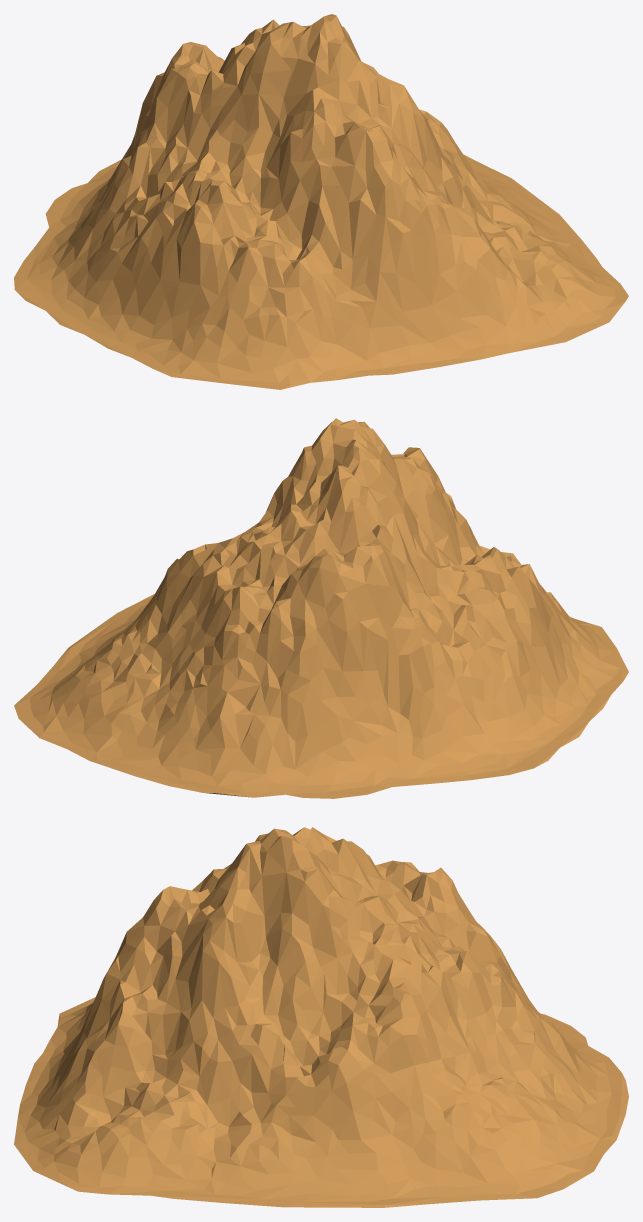
Rendered from result.gltf.
3 views of the same model, one above another, from view 1: azimuth 30°, elevation 25°; view 2: azimuth 150°, elevation 25°; view 3: azimuth 270°, elevation 25° (orthographic). The views are drawn at different scales.
Visible parts, largest first — view 1: Mounting_1; view 2: Mounting_1; view 3: Mounting_1.
Boxes of the visible parts, left/top/right/bottom form: Mounting_1: left=14, top=14, right=628, bottom=389; Mounting_1: left=14, top=418, right=628, bottom=798; Mounting_1: left=14, top=827, right=628, bottom=1207.
Size of the model in its own units: 1572 by 780 by 1675.
